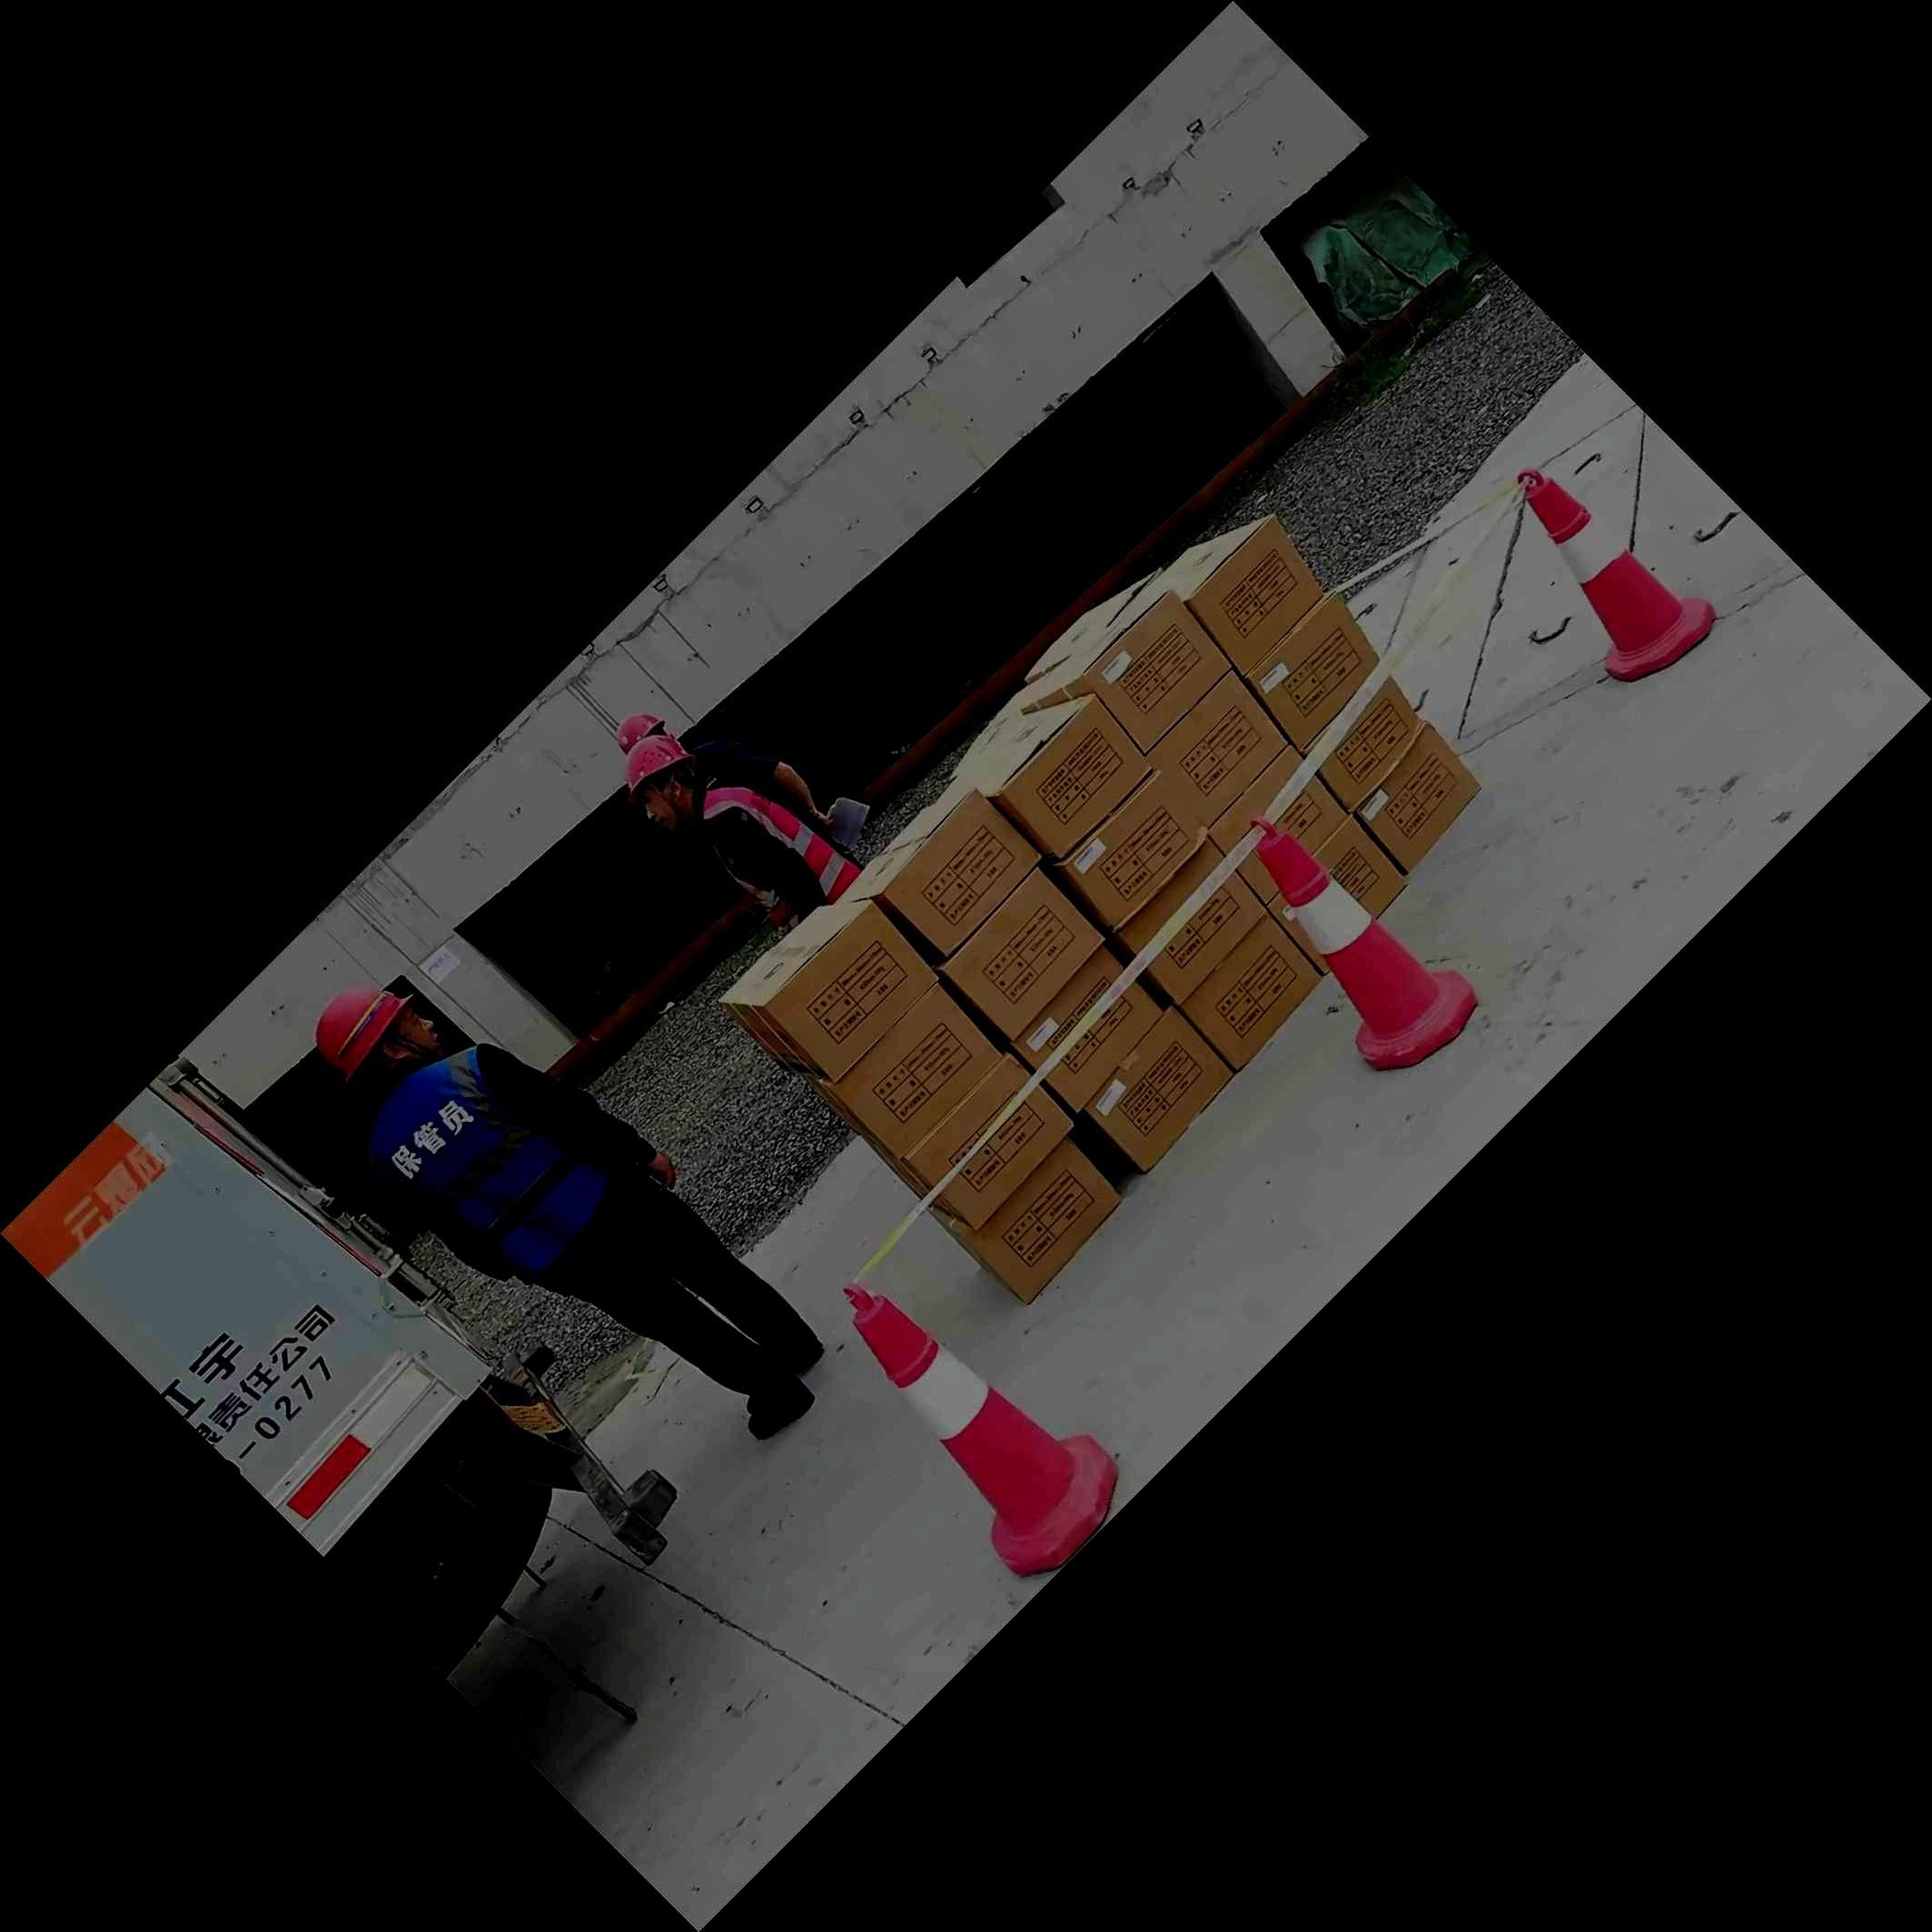helmet: (313, 982, 439, 1083), (623, 734, 697, 832), (616, 711, 667, 754)
